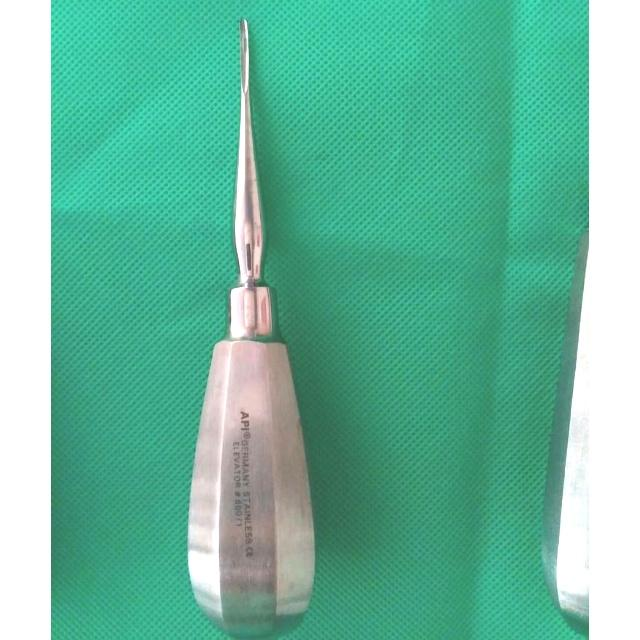botador: (187, 19, 316, 637)
